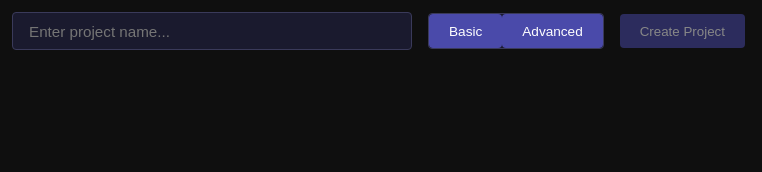
Scenario: ProjectSelector › no project selected › enables create button when name is entered
Type "My Project" into the field at [212, 31], box 12,12 -> 412,50
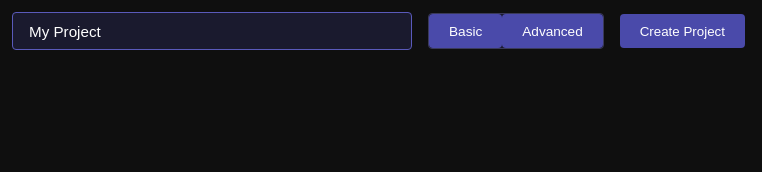
Check: the button "Create Project" is enabled, box 620,14 -> 745,48
